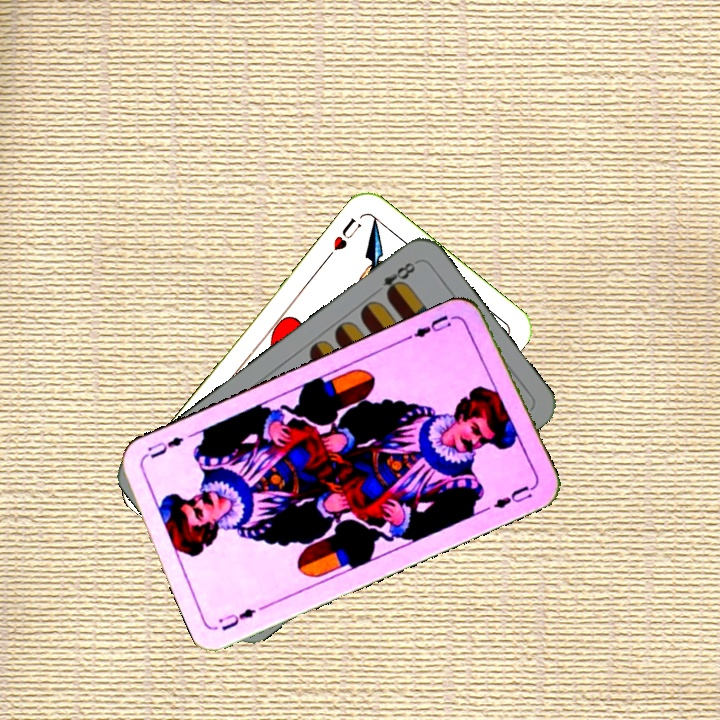E8: (378, 257, 420, 300)
EU: (404, 311, 460, 343), (214, 604, 259, 633)
HU: (322, 213, 364, 262)
